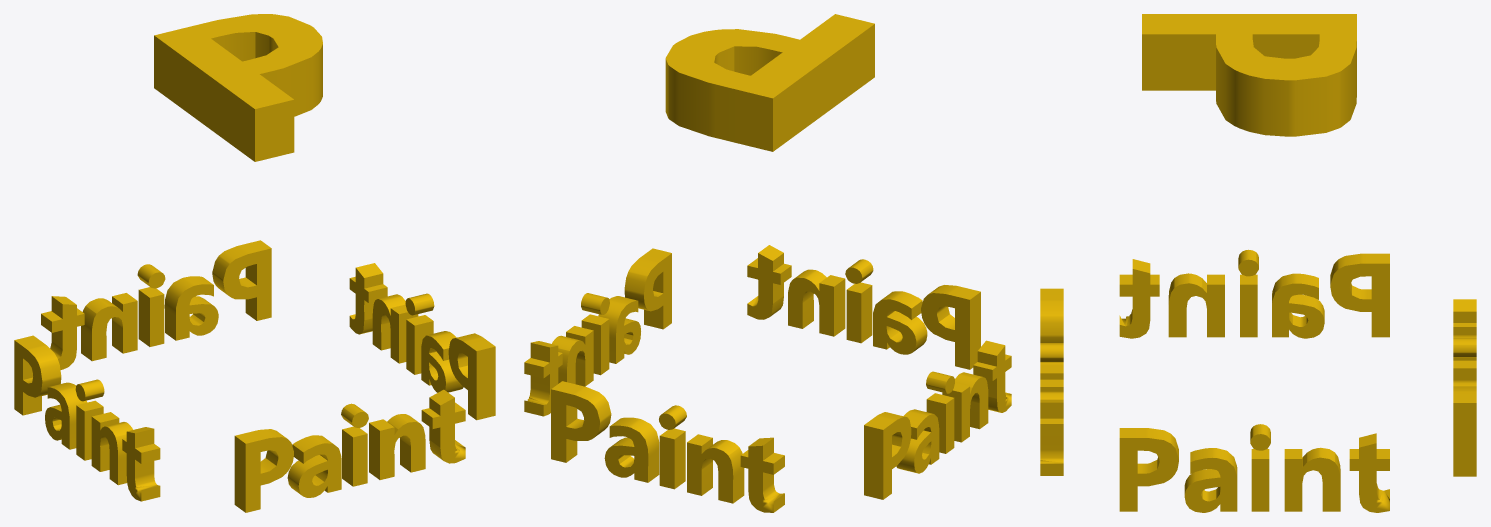
Rendered from ModePaint.fbx.
The picture shows the model from 3 angles, left to right: view 1: azimuth 30°, elevation 25°; view 2: azimuth 150°, elevation 25°; view 3: azimuth 270°, elevation 25°; orthographic projection. The views are drawn at different scales.
Parts seen in each view (by area): view 1: polySurface85, curve82, curve91, curve92, curve90; view 2: polySurface85, curve91, curve82, curve92, curve90; view 3: polySurface85, curve90, curve92, curve82, curve91.
Boxes of the visible parts, box(x1,y1,x2,y2) form: polySurface85: box(154, 14, 322, 161); curve82: box(234, 389, 465, 512); curve91: box(41, 240, 271, 369); curve92: box(14, 335, 160, 501); curve90: box(349, 263, 495, 420); polySurface85: box(665, 14, 874, 151); curve91: box(551, 381, 784, 512); curve82: box(747, 245, 980, 369); curve92: box(864, 340, 1011, 499); curve90: box(524, 248, 671, 416); polySurface85: box(1142, 14, 1356, 136); curve90: box(1119, 424, 1389, 512); curve92: box(1119, 249, 1389, 338); curve82: box(1040, 288, 1063, 475); curve91: box(1453, 299, 1476, 476).
Bounding box in the file's own units: 0.866 × 0.8315 × 0.8671.
